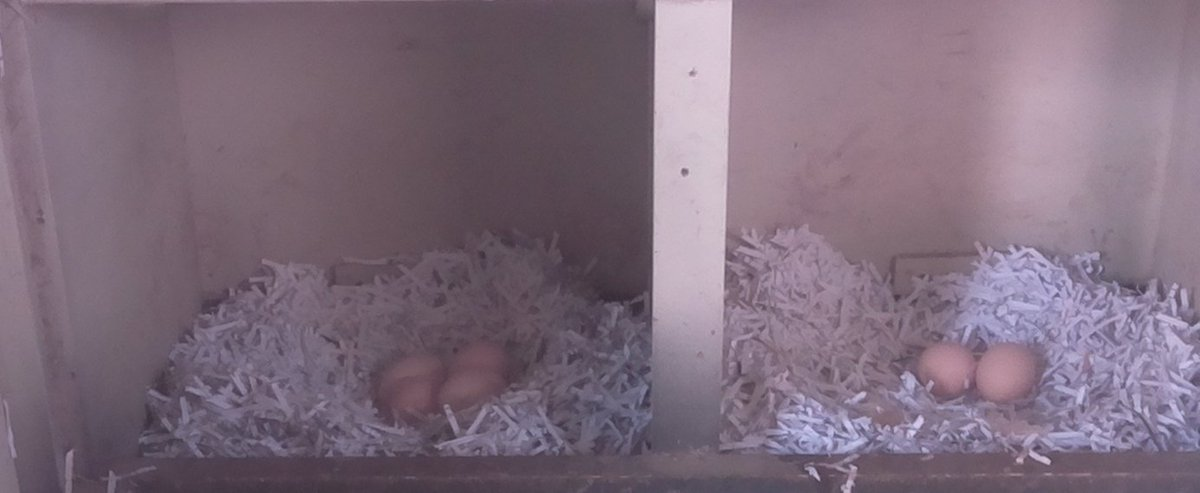egg: (971, 338, 1042, 407), (914, 333, 980, 402), (434, 362, 510, 413), (372, 349, 441, 396), (382, 373, 444, 424), (441, 339, 514, 376)
